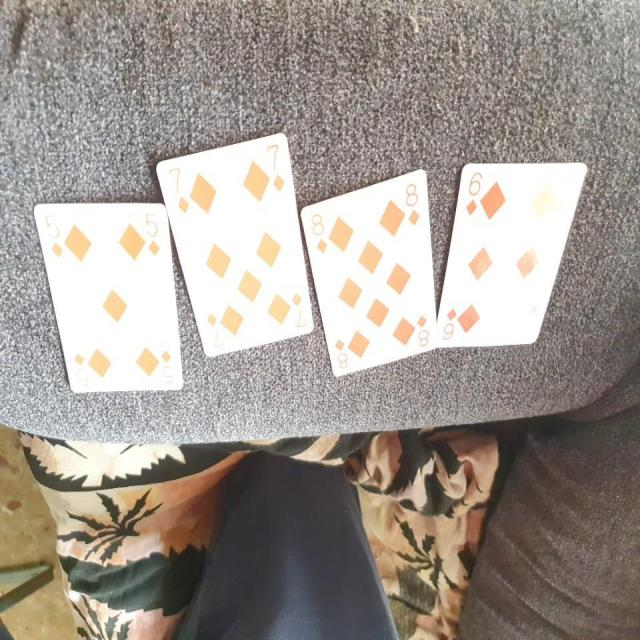5 Diamonds: (32, 200, 185, 397)
6 Diamonds: (436, 156, 589, 354)
7 Diamonds: (155, 129, 315, 358)
8 Diamonds: (300, 167, 440, 379)
